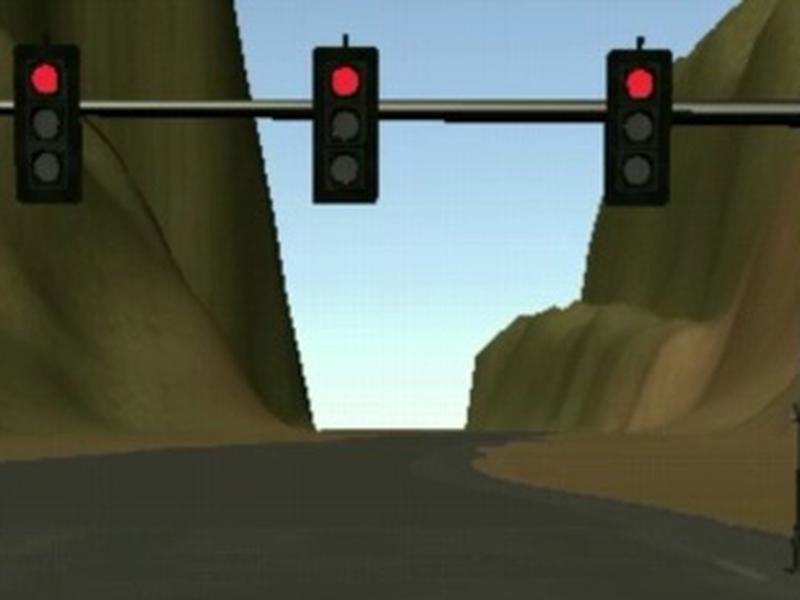Red: (14, 44, 85, 204), (604, 48, 672, 205), (314, 45, 380, 203)
